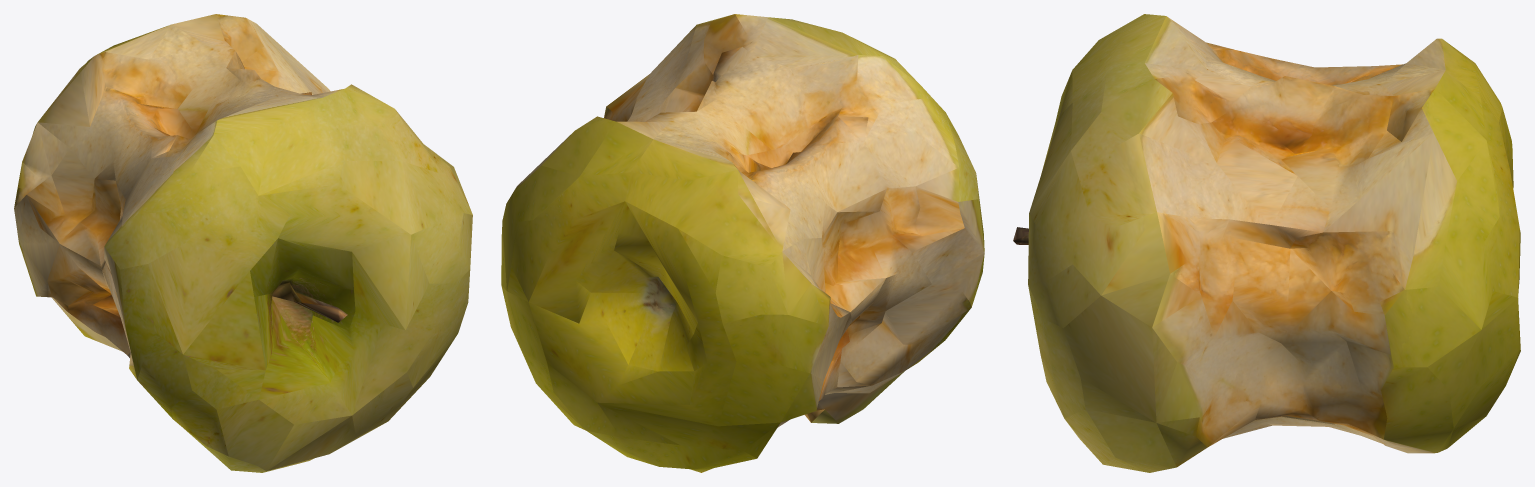
The model's file is bitten_apple_mid_lod_050.obj.
3 views of the same model, side by side, from view 1: azimuth 30°, elevation 25°; view 2: azimuth 150°, elevation 25°; view 3: azimuth 270°, elevation 25° (orthographic). The views are drawn at different scales.
Size of the model in its own units: 0.8403 by 0.8127 by 0.8924.
Materials: 1 (1 with a texture image).
